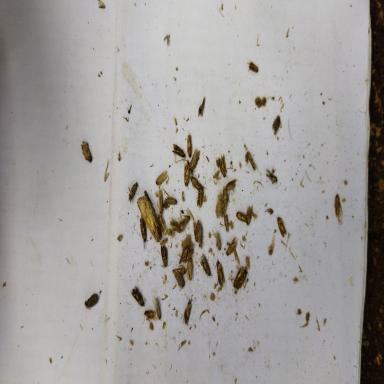abw: (137, 190, 162, 243)
pbw: (183, 293, 195, 325), (129, 286, 147, 306), (214, 258, 225, 288), (200, 253, 213, 277), (196, 184, 207, 212), (160, 244, 173, 267), (246, 151, 259, 173), (236, 268, 249, 290), (172, 144, 187, 162), (176, 245, 190, 264), (140, 215, 148, 248), (81, 140, 93, 162), (128, 181, 140, 203), (162, 188, 178, 204), (190, 148, 200, 173), (173, 269, 185, 289), (152, 296, 162, 320), (182, 160, 190, 189), (157, 214, 168, 235), (276, 216, 287, 237), (226, 237, 238, 256), (85, 293, 99, 309), (335, 194, 343, 222), (218, 154, 227, 178), (190, 174, 202, 192), (211, 229, 221, 250), (221, 188, 229, 214), (142, 310, 156, 324), (178, 214, 190, 230), (156, 170, 168, 186), (197, 219, 203, 249), (169, 218, 181, 233), (157, 189, 164, 214), (186, 257, 193, 281), (185, 246, 195, 262), (225, 179, 237, 192), (266, 169, 277, 183), (246, 204, 253, 226), (187, 130, 192, 158), (172, 265, 186, 275), (247, 61, 258, 73), (236, 211, 246, 223), (193, 220, 198, 242), (224, 214, 229, 232)
